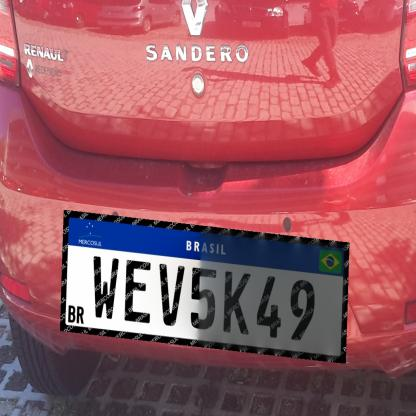PlacaM: (60, 210, 350, 364)
